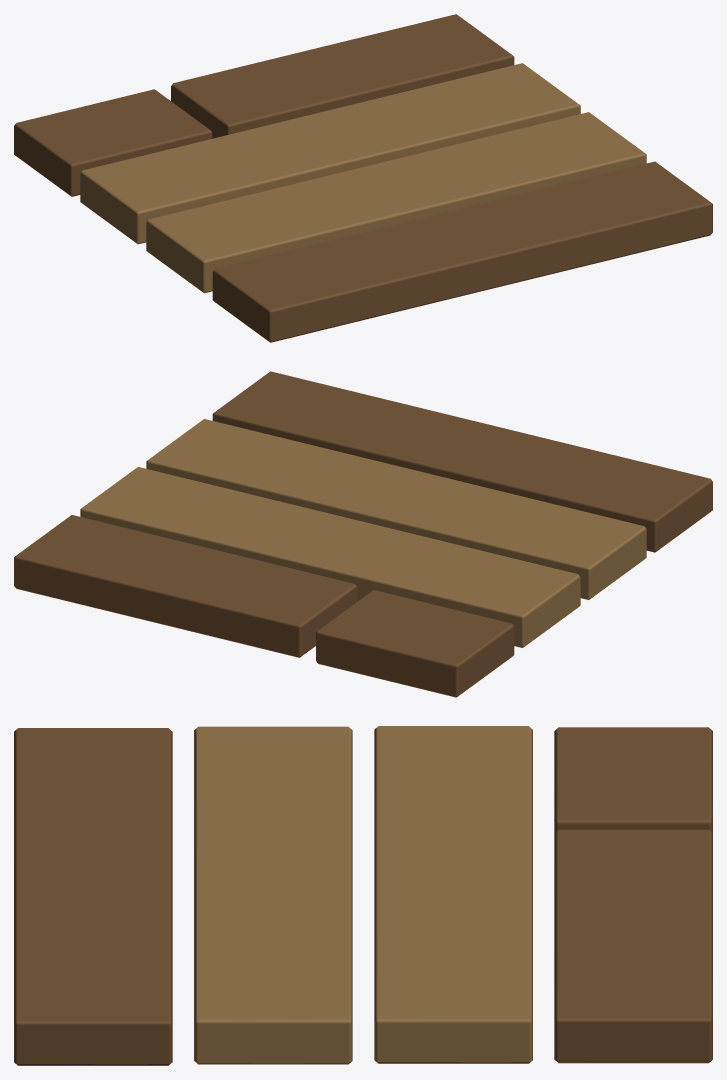
File: village-planks-b.dd6bd0d4.glb
3 views of the same model, one above another, from view 1: azimuth 30°, elevation 25°; view 2: azimuth 150°, elevation 25°; view 3: azimuth 270°, elevation 25° (orthographic). The views are drawn at different scales.
Visible parts, largest first — view 1: body; view 2: body; view 3: body.
Boxes of the visible parts, x1,y1,x2,y2 form: body: (14,14,712,342); body: (14,371,712,697); body: (14,726,712,1065).
Bounding box in the file's own units: 0.97 × 0.074 × 0.97.
